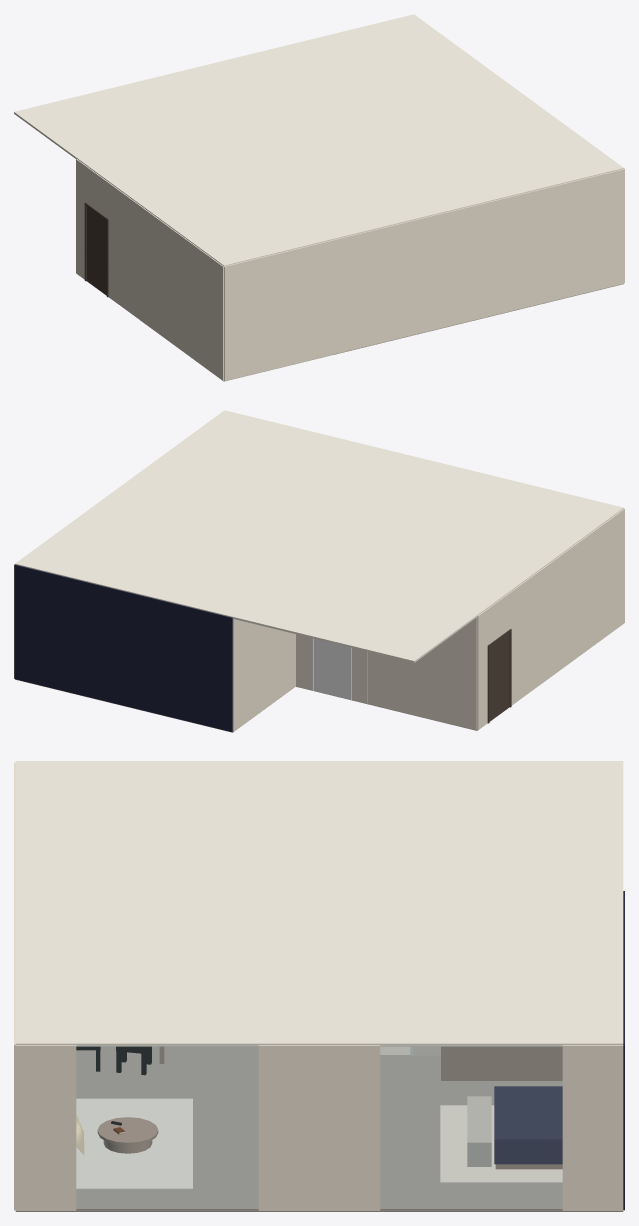
The model's file is apartment1.dae.
3 renders of one model, top to bottom at view 1: azimuth 30°, elevation 25°; view 2: azimuth 150°, elevation 25°; view 3: azimuth 270°, elevation 25°, orthographic. The views are drawn at different scales.
Parts seen in each view (by area): view 1: Ceiling, Wall5, Wall4, FrontDoorMain, Wall3, Wall1, Wall2; view 2: Ceiling, BRAccentWall, Wall4, Wall16, Wall9, WRDoorMain, FrontDoorMain, Wall1, Wall3, Wall15, Wall13, Wall2; view 3: Ceiling, Window2, Window1, LRFloor, BRFloor, Wall8, Wall7.1, Wall7.2, Wall6, Rug, Blanket, BRRug (+6 smaller).
Part boxes in pixels (left/top/right/bottom): Ceiling: left=14, top=14, right=623, bottom=266; Wall5: left=224, top=169, right=624, bottom=380; Wall4: left=118, top=190, right=223, bottom=380; FrontDoorMain: left=86, top=206, right=106, bottom=295; Wall3: left=107, top=182, right=118, bottom=303; Wall1: left=76, top=159, right=86, bottom=279; Wall2: left=86, top=166, right=107, bottom=218; Ceiling: left=15, top=410, right=623, bottom=662; BRAccentWall: left=14, top=564, right=232, bottom=731; Wall4: left=519, top=508, right=624, bottom=699; Wall16: left=368, top=616, right=477, bottom=730; Wall9: left=232, top=618, right=295, bottom=731; WRDoorMain: left=314, top=638, right=349, bottom=699; FrontDoorMain: left=489, top=632, right=509, bottom=721; Wall1: left=477, top=608, right=488, bottom=729; Wall3: left=509, top=585, right=519, bottom=705; Wall15: left=351, top=648, right=367, bottom=703; Wall13: left=296, top=634, right=311, bottom=689; Wall2: left=488, top=593, right=509, bottom=644; Ceiling: left=15, top=761, right=623, bottom=1046; Window2: left=380, top=1045, right=562, bottom=1210; Window1: left=76, top=1045, right=258, bottom=1210; LRFloor: left=15, top=1046, right=319, bottom=1211; BRFloor: left=319, top=1055, right=623, bottom=1211; Wall8: left=562, top=1045, right=623, bottom=1210; Wall7.1: left=258, top=1045, right=319, bottom=1210; Wall7.2: left=319, top=1045, right=380, bottom=1210; Wall6: left=15, top=1045, right=76, bottom=1210; Rug: left=76, top=1098, right=192, bottom=1189; Blanket: left=494, top=1086, right=562, bottom=1164; BRRug: left=440, top=1105, right=562, bottom=1183.
Size of the model in its own units: 1108 by 305 by 1005.
